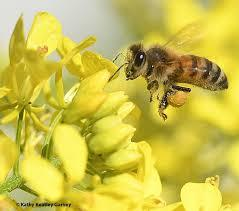Apis-mellifera-scutellata: (103, 18, 232, 124)
